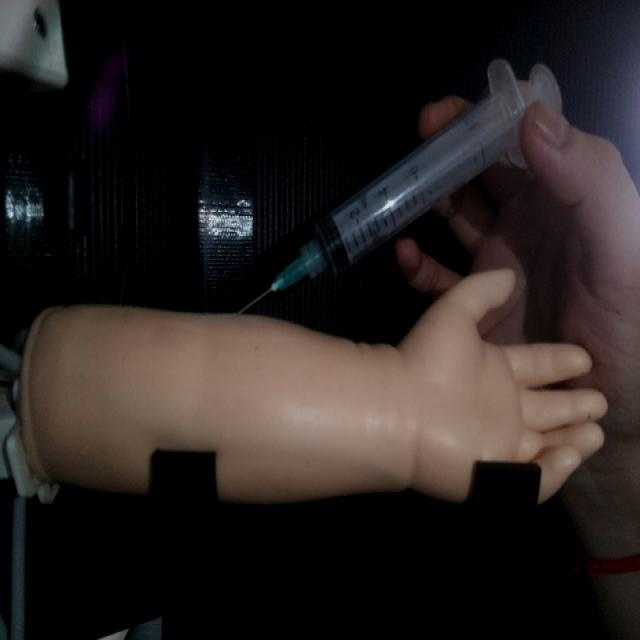Above 30 degrees: (229, 55, 563, 316)
